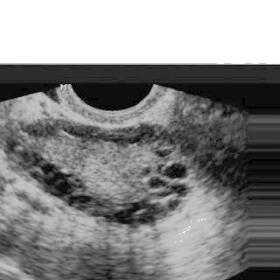PCOS: (163, 159, 191, 181), (45, 171, 72, 186), (112, 210, 132, 228), (71, 193, 92, 206), (128, 199, 146, 214), (147, 175, 165, 189), (174, 183, 190, 198), (41, 162, 56, 175)
